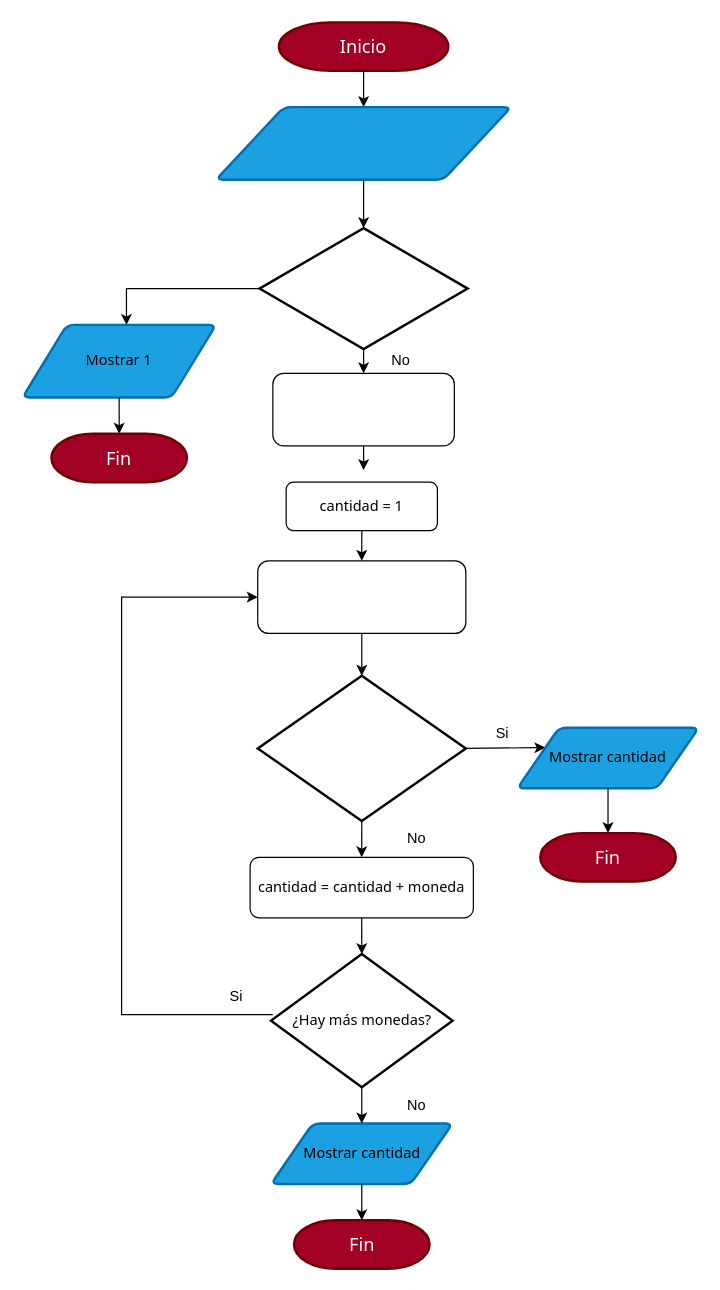
The diagram is 720 pixels wide and 1290 high, and some of its shapes have lost their labels. Each missing label, with the box of its shape:
Ordenar las monedad de menor a mayor: (272, 372, 454, 446)
Recibir arreglo de monedas (coins): (214, 105, 512, 180)
Recorrer cada moneda del arreglo: (257, 560, 466, 633)
¿El arreglo esta vacío?: (258, 226, 468, 350)
¿La moneda es mayor que la cantidad?: (256, 674, 466, 822)
